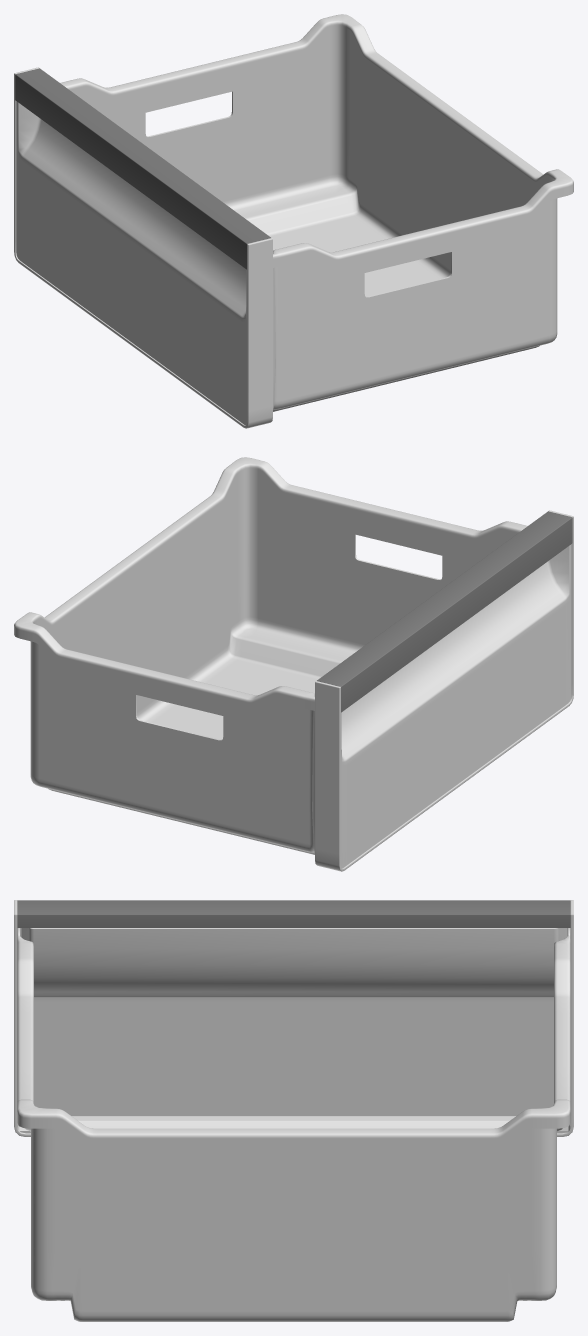
Rendered from SM_Fridge_Drawer_03.dae.
The picture shows the model from 3 angles, top to bottom: view 1: azimuth 30°, elevation 25°; view 2: azimuth 150°, elevation 25°; view 3: azimuth 270°, elevation 25°; orthographic projection. The views are drawn at different scales.
Visible parts, largest first — view 1: SM_Fridge_Drawer_03; view 2: SM_Fridge_Drawer_03; view 3: SM_Fridge_Drawer_03.
Part boxes in pixels (bbox=[...]): SM_Fridge_Drawer_03: bbox=[14, 14, 573, 428]; SM_Fridge_Drawer_03: bbox=[14, 457, 573, 871]; SM_Fridge_Drawer_03: bbox=[14, 900, 573, 1321].
Size of the model in its own units: 0.333 by 0.409 by 0.192.
3 materials, 2 textured.
